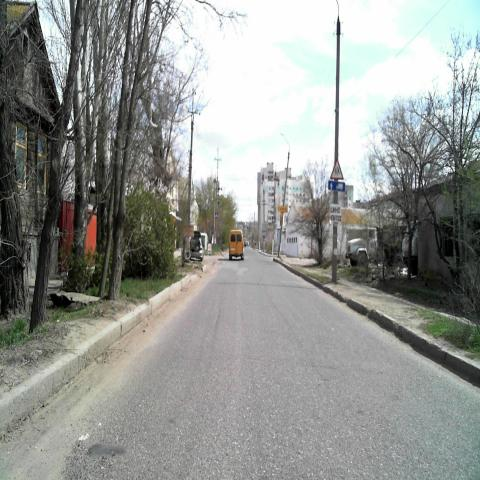6_15_1: (327, 180, 346, 192)
